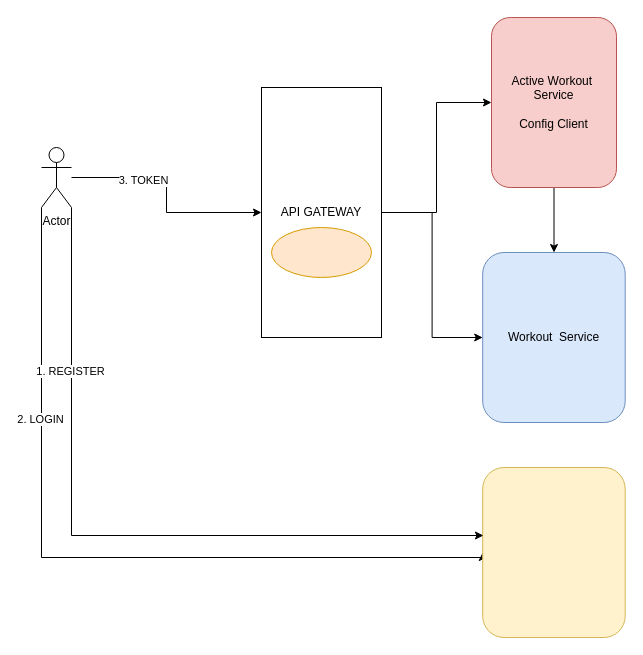
The diagram is 643 pixels wide and 655 high, and some of its shapes have lost their labels. Here are the shapes that lost their labels. From the top down, the centre of each, then its label:
At [321,252]: "Security".
At [553,552]: "Auth Service".
